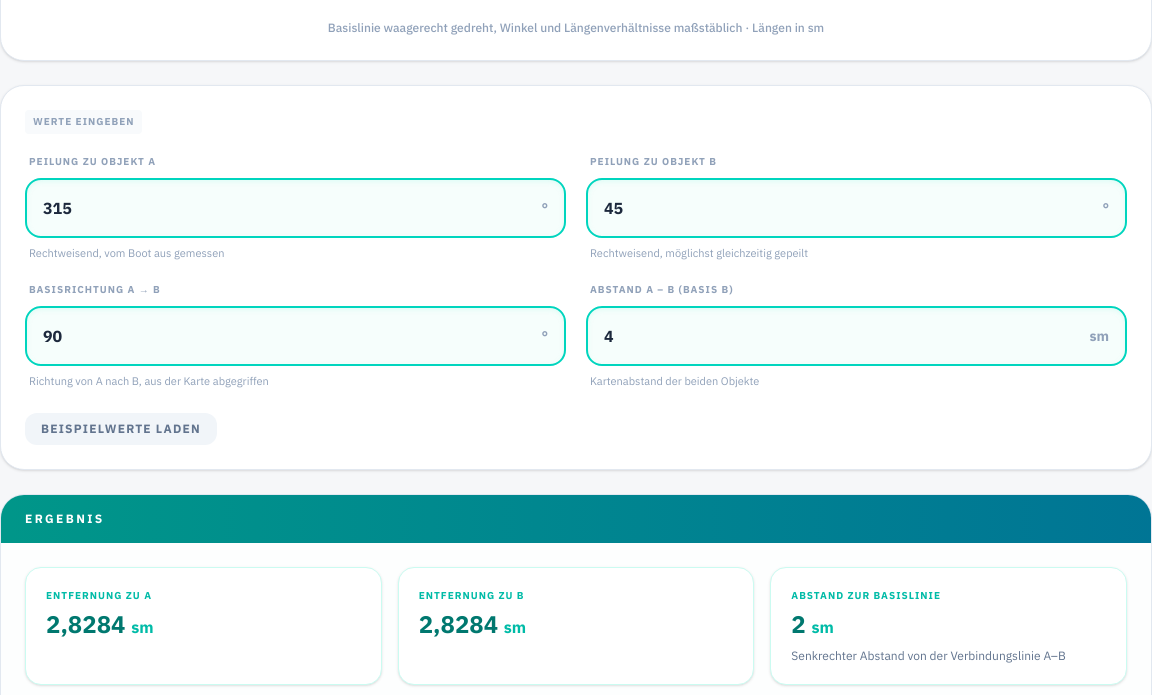
Scenario: KreuzpeilungRechner › leeres Feld blendet Ergebnis und Skizze aus
(page scrolled)
Clear the number field labelled "Abstand A – B (Basis b)" at (856, 336), box [588,308,1125,364]
(page scrolled)
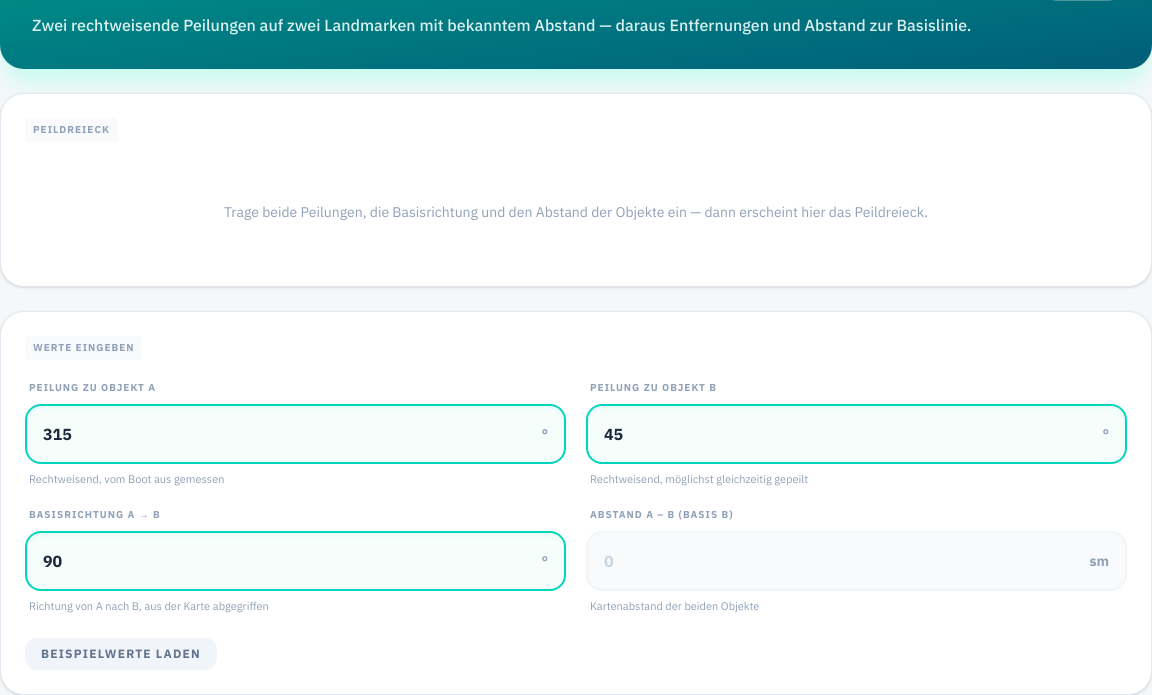
Expected: the text "Abstand zur Basislinie" is not shown
Expected: the text "dann erscheint hier das Peildreieck" is shown, [224,203,928,221]
